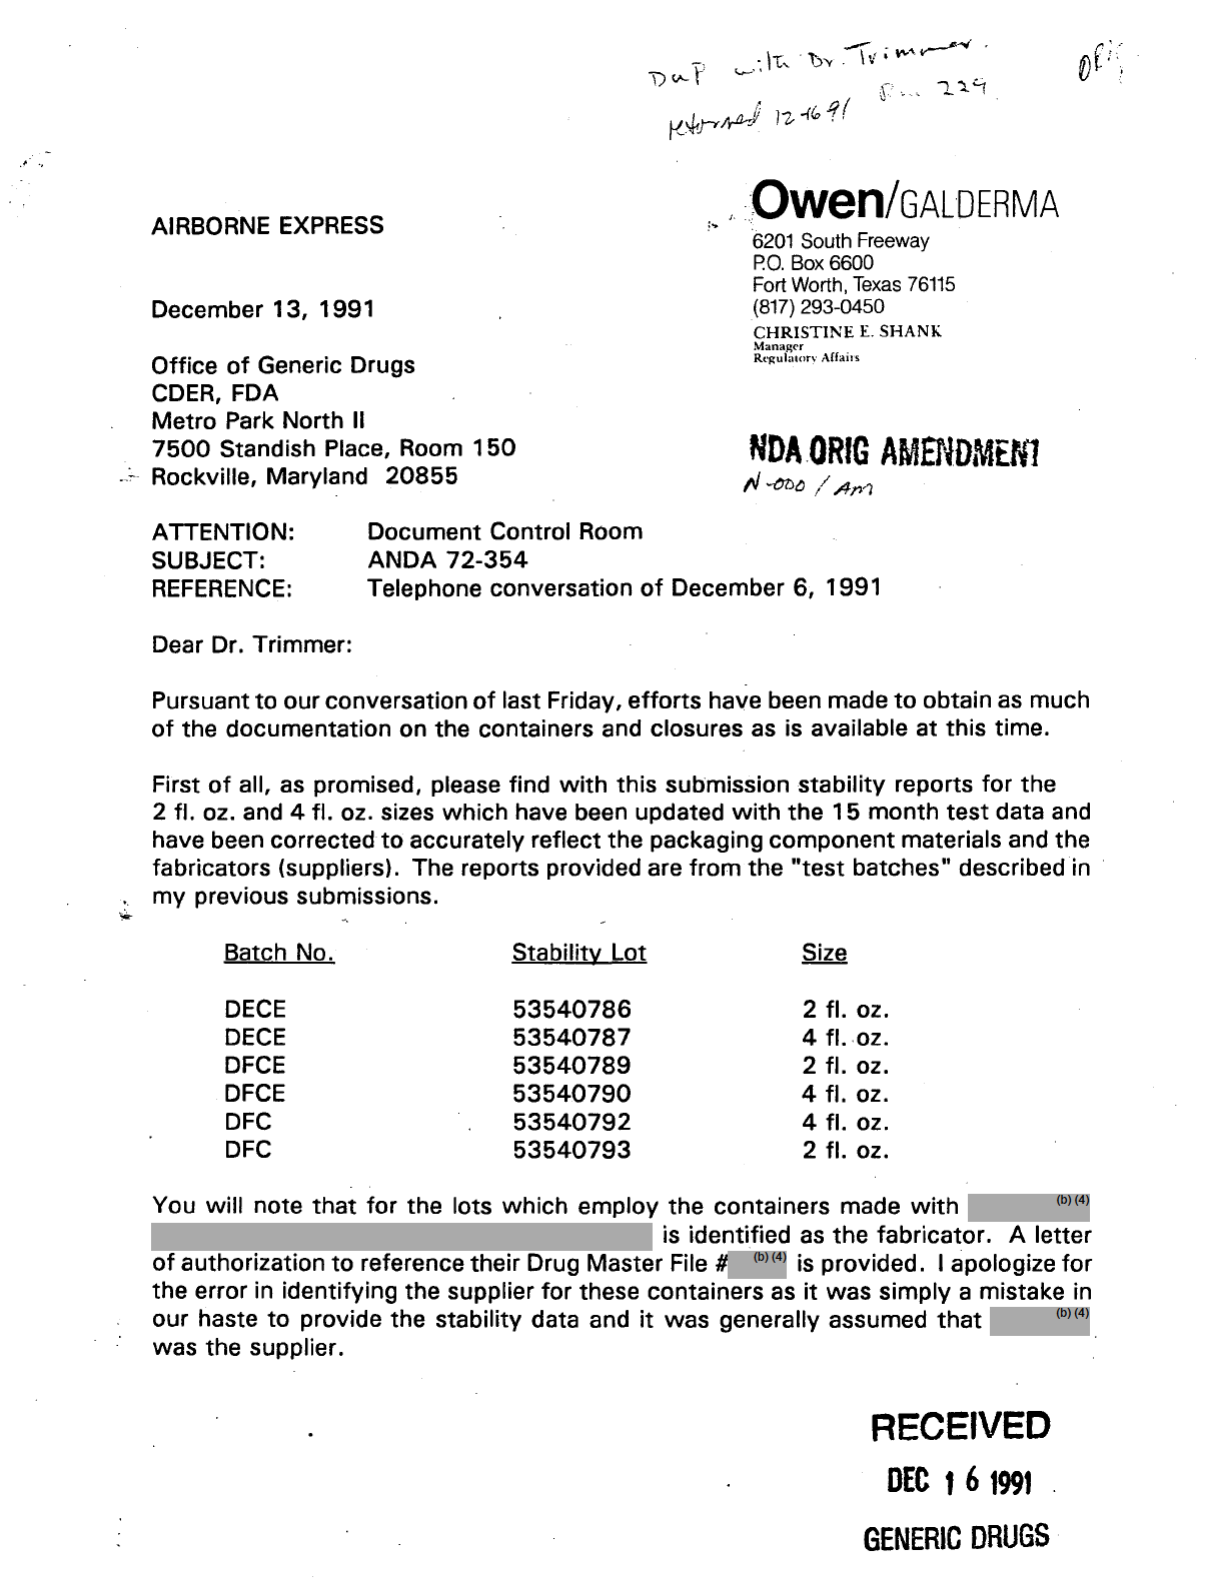nolines: (219, 939, 894, 1165), (147, 518, 882, 600)
